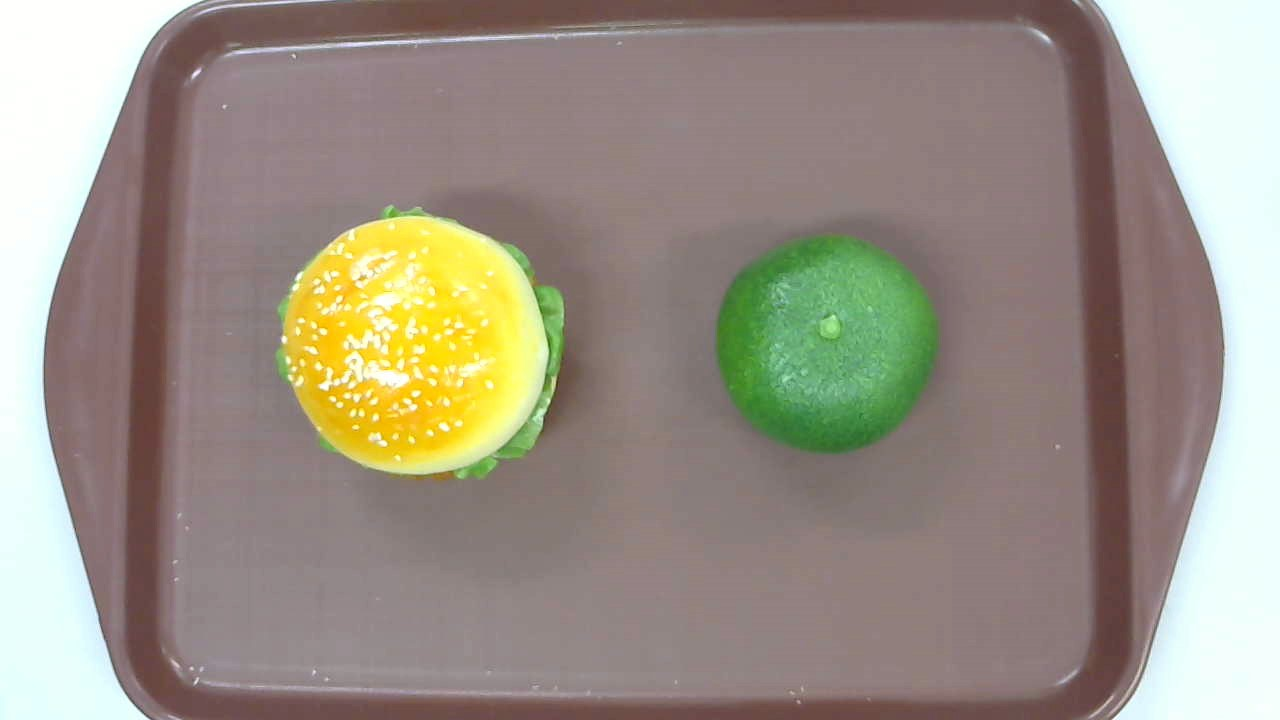green orange: (715, 231, 938, 455)
hamburger: (272, 205, 566, 484)
